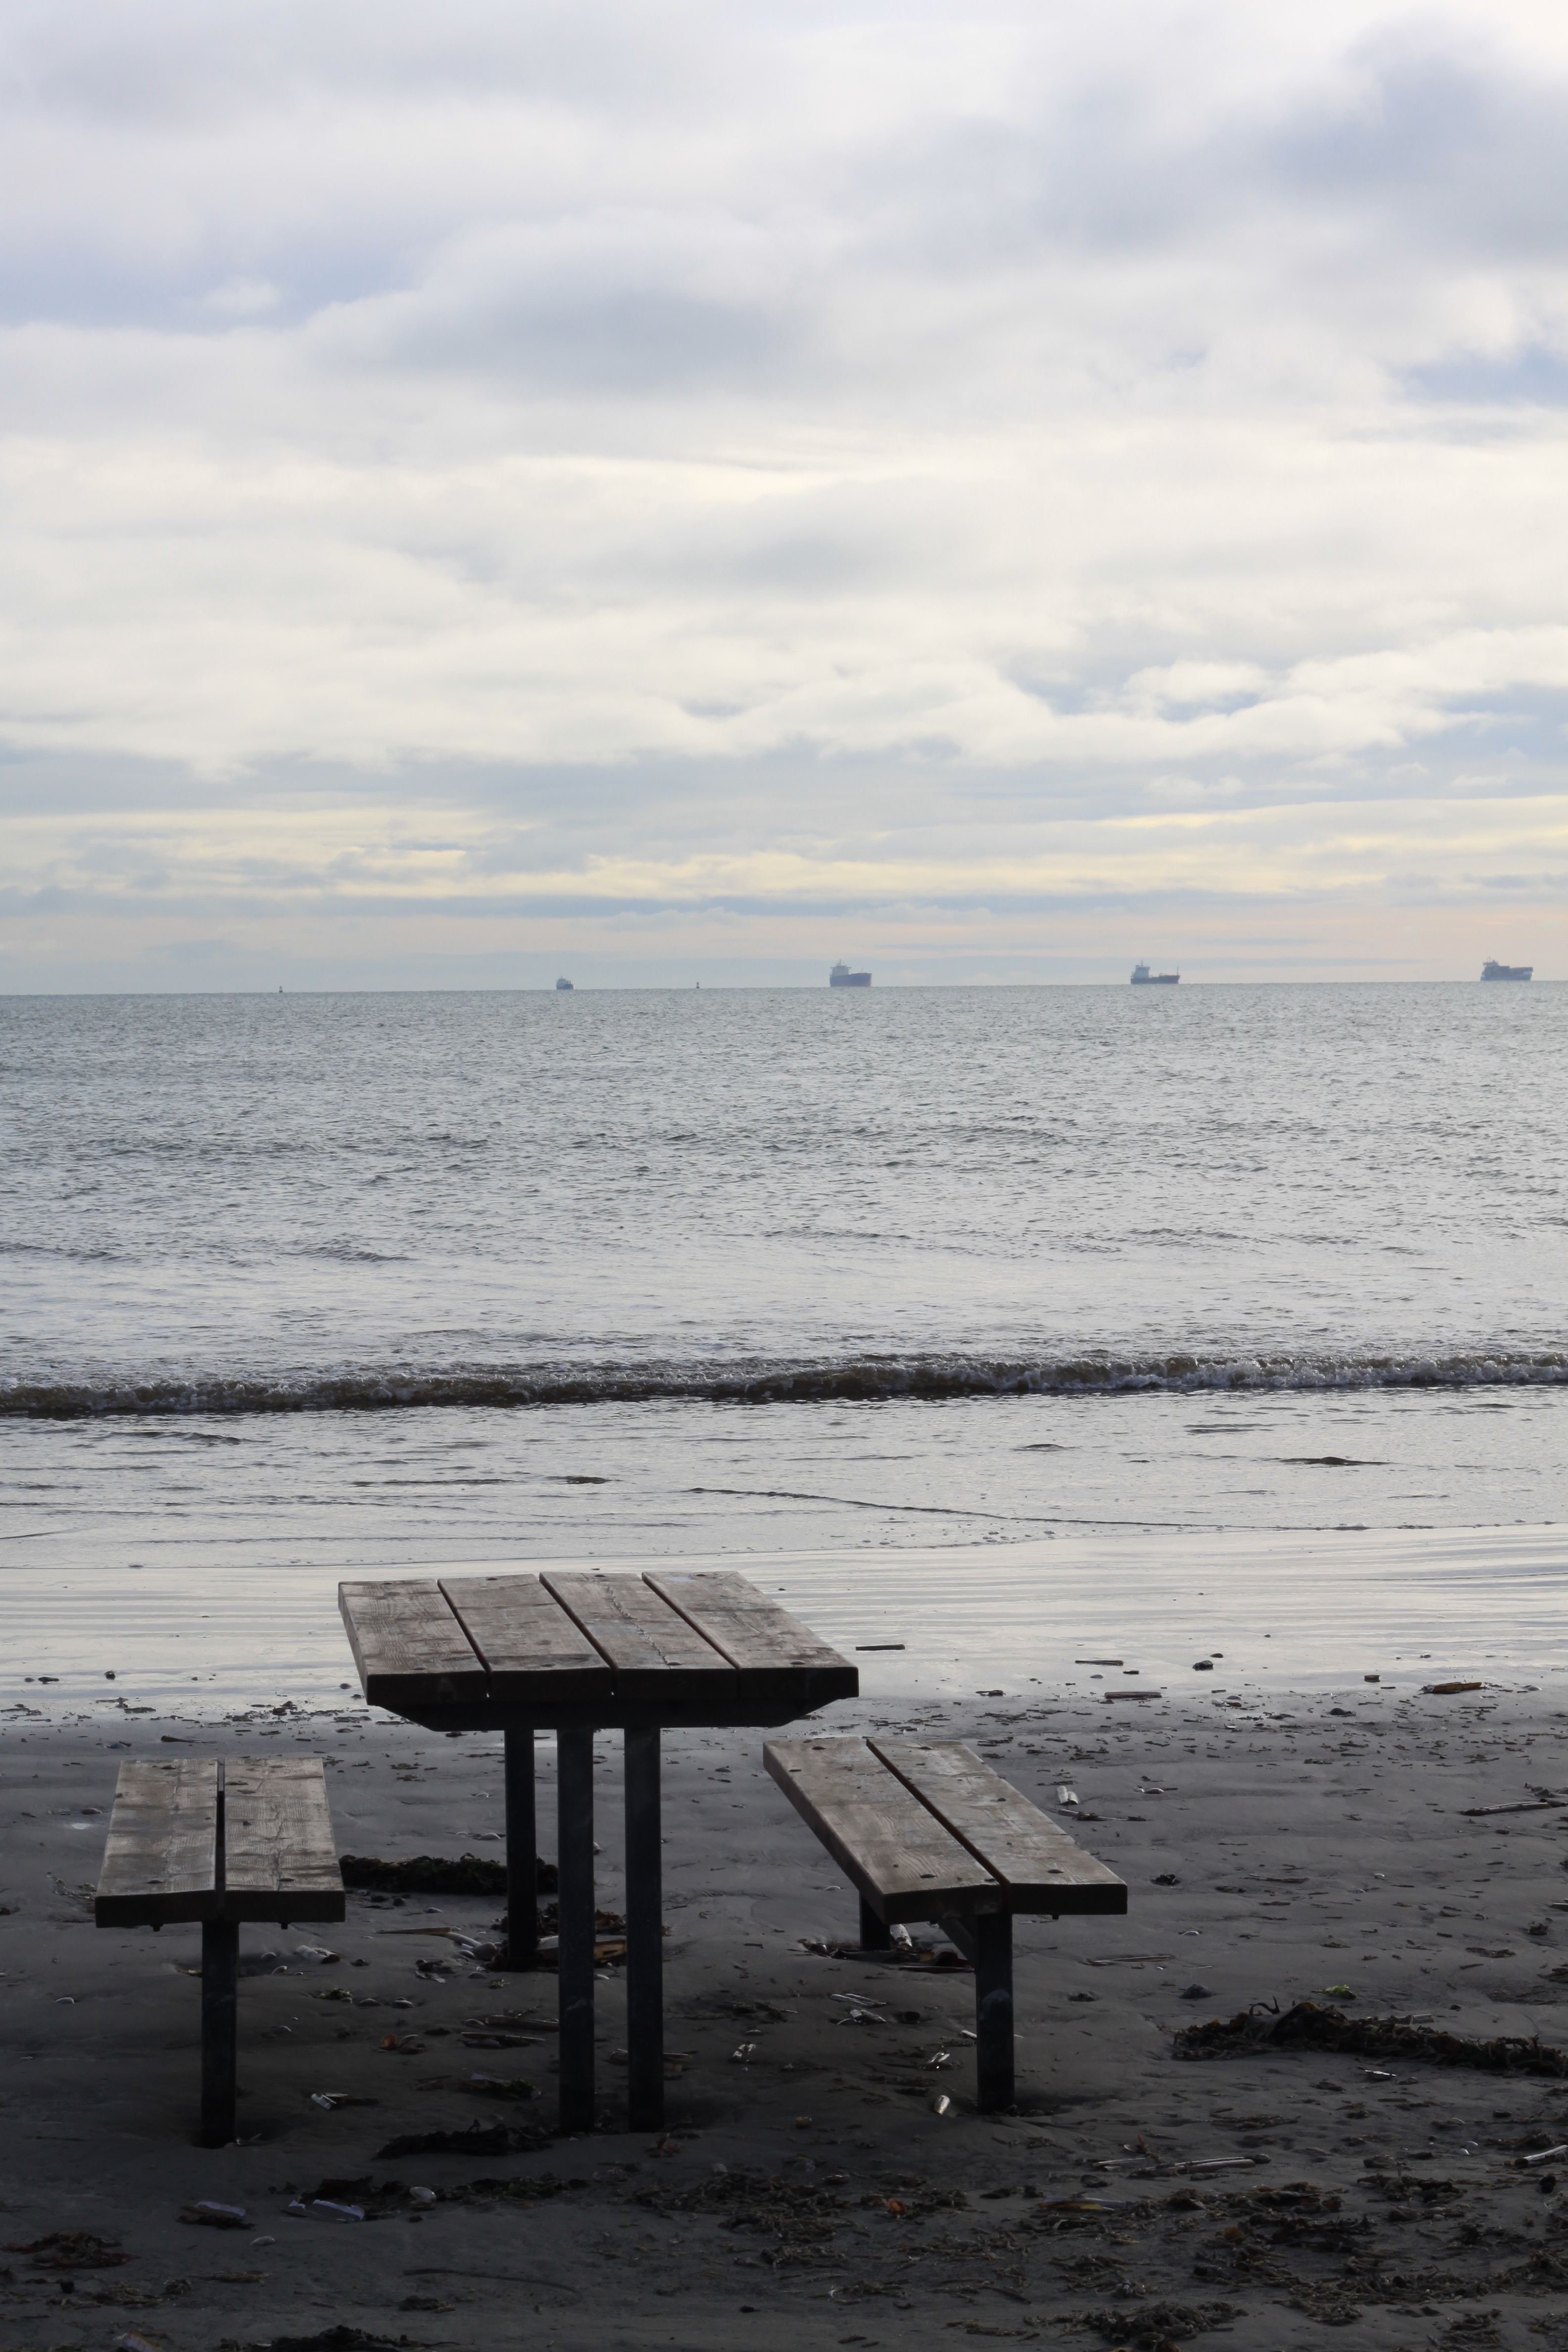obstacle: (70, 1377, 1139, 2249)
